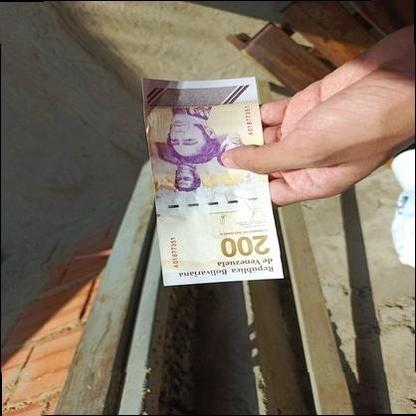two_hundred-front-vef: (139, 75, 285, 287)
